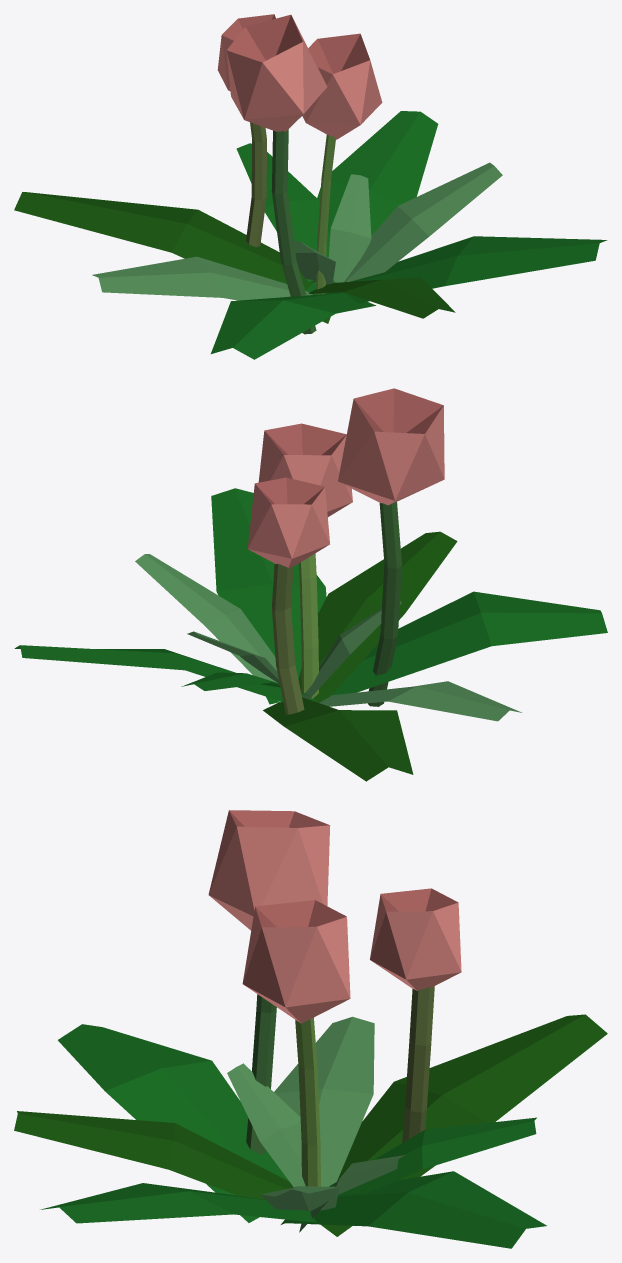
File: flowers_2.glb
3 renders of one model, top to bottom at view 1: azimuth 30°, elevation 25°; view 2: azimuth 150°, elevation 25°; view 3: azimuth 270°, elevation 25°, orthographic. The views are drawn at different scales.
Visible parts, largest first — view 1: Plane.012_Material.008_0; view 2: Plane.012_Material.008_0; view 3: Plane.012_Material.008_0.
Boxes of the visible parts, x1,y1,x2,y2 form: Plane.012_Material.008_0: (14, 14, 607, 359); Plane.012_Material.008_0: (14, 388, 607, 781); Plane.012_Material.008_0: (14, 810, 607, 1248).
Size of the model in its own units: 0.6372 by 0.4628 by 0.656.
